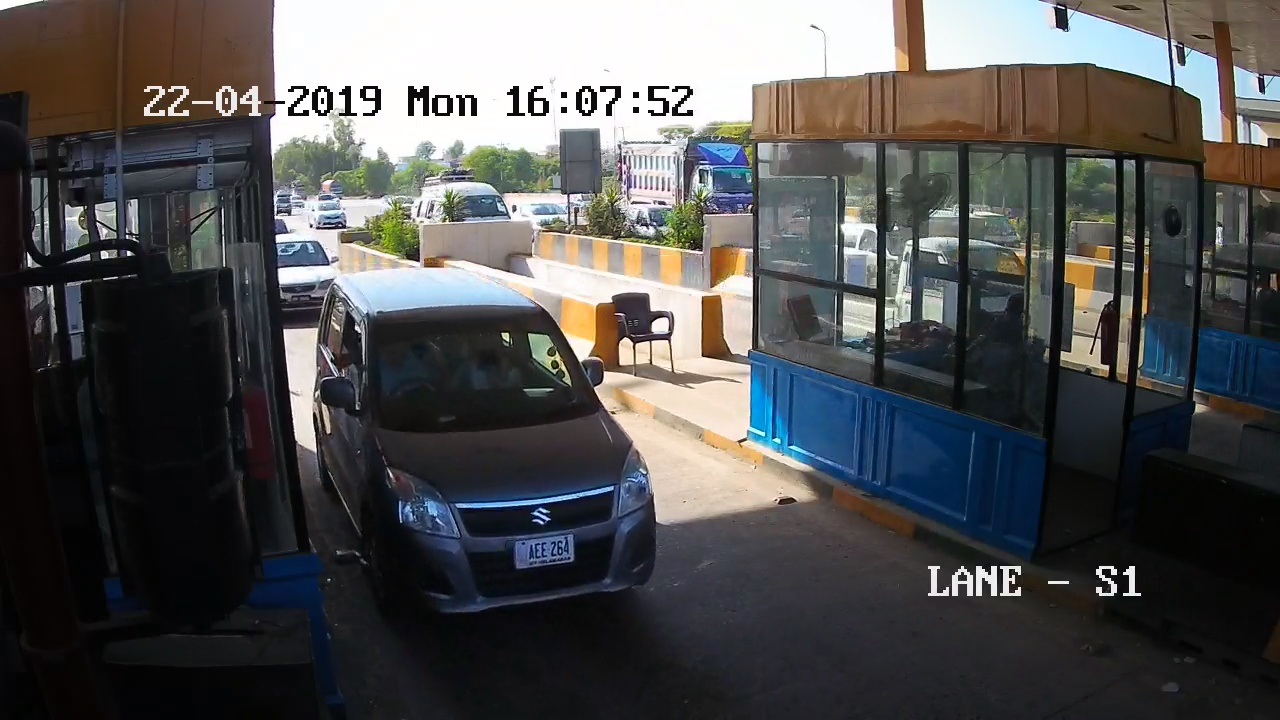Number Plate (Car): (514, 536, 571, 565)
